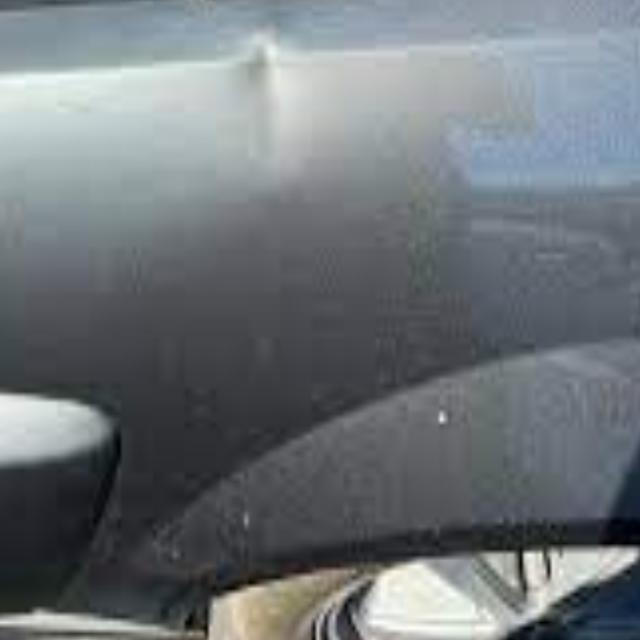dents: (225, 26, 308, 208)
